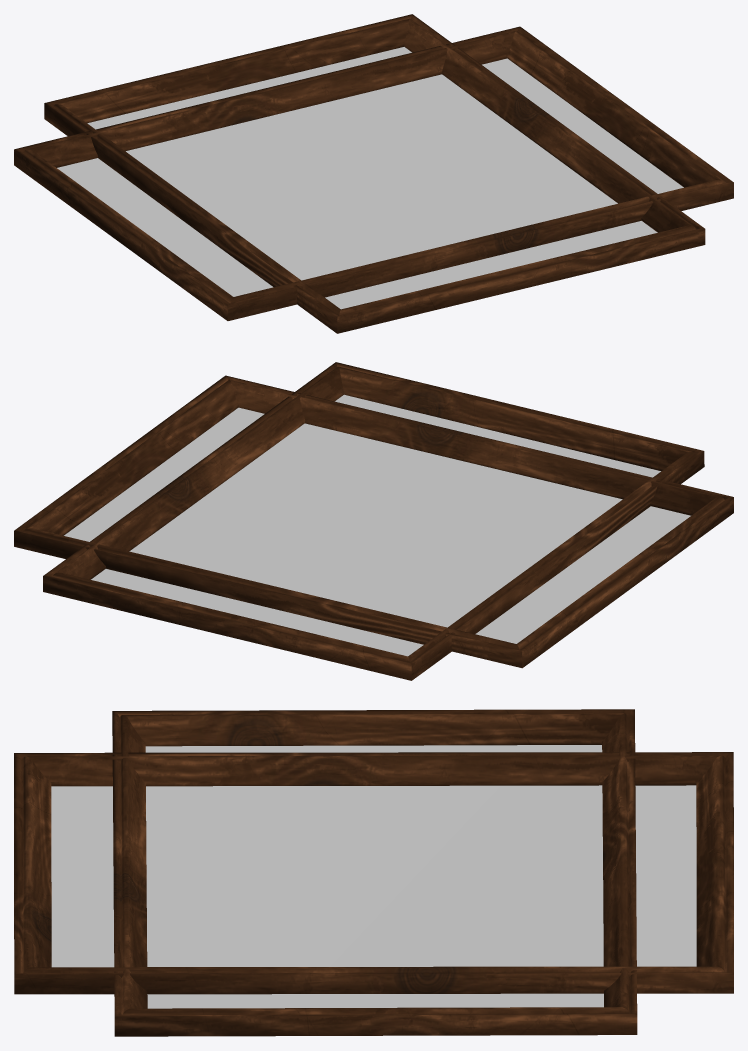
File: Pictures.fbx
The picture shows the model from 3 angles, top to bottom: view 1: azimuth 30°, elevation 25°; view 2: azimuth 150°, elevation 25°; view 3: azimuth 270°, elevation 25°; orthographic projection. The views are drawn at different scales.
Visible parts, largest first — view 1: Картина.003, Картина.001; view 2: Картина.001, Картина.003; view 3: Картина.001, Картина.003.
Part boxes in pixels (x1,y1,x2,y2): Картина.003: (14,26,733,320); Картина.001: (44,14,705,333); Картина.001: (43,362,704,680); Картина.003: (14,375,733,668); Картина.001: (14,752,733,994); Картина.003: (112,709,637,1036).
Size of the model in its own units: 114 by 4.13 by 114.
